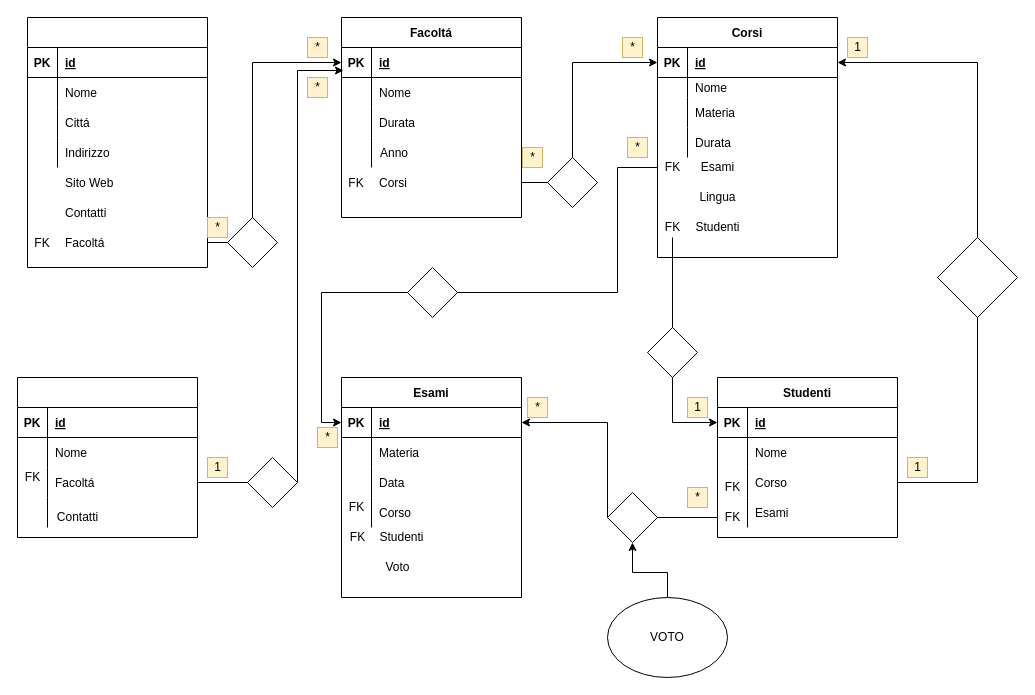
The diagram is 1035 pixels wide and 695 high, and some of its shapes have lost their labels. The shapes that lost their labels are listed below. From the top down, each one's box as (x1, y1, x2, y2) in pixels, then its label:
(26, 16, 208, 268): Universitá
(16, 376, 198, 538): Professori
